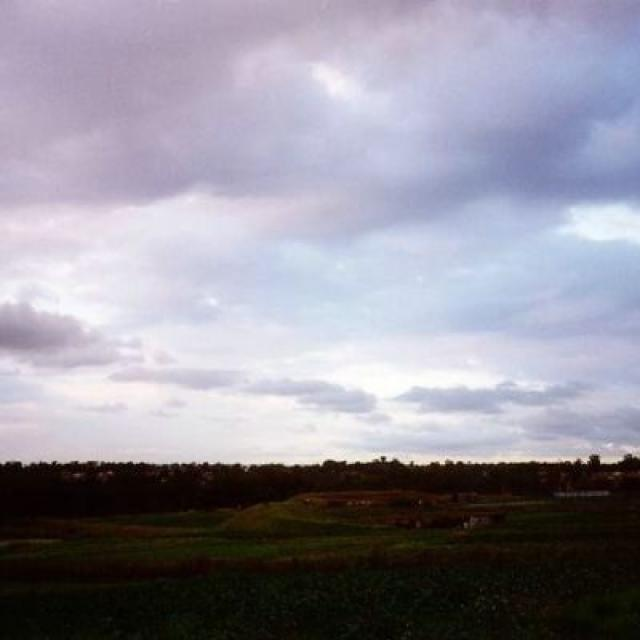Sc: (1, 20, 640, 432)
